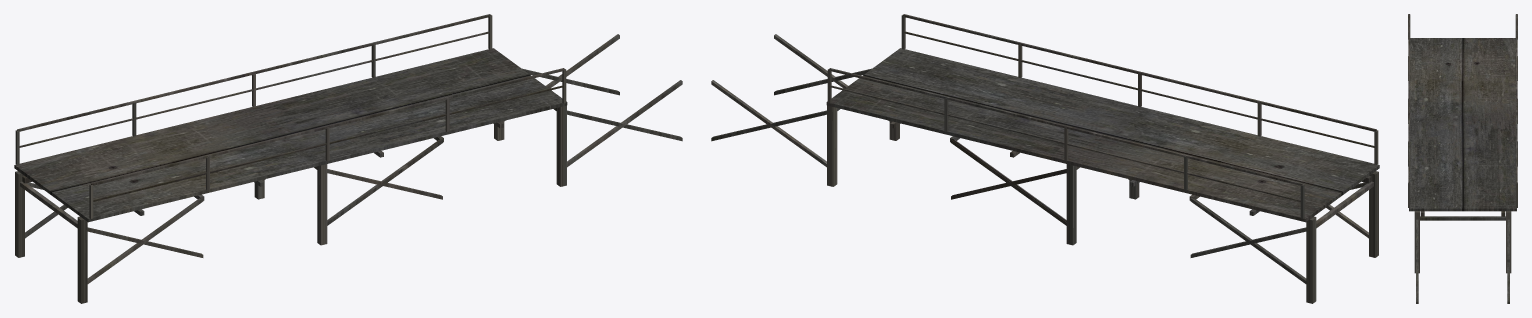
The model's file is wooden_bridge.glb.
The picture shows the model from 3 angles, left to right: view 1: azimuth 30°, elevation 25°; view 2: azimuth 150°, elevation 25°; view 3: azimuth 270°, elevation 25°; orthographic projection. The views are drawn at different scales.
Visible parts, largest first — view 1: WoodenBridge; view 2: WoodenBridge; view 3: WoodenBridge.
Part boxes in pixels (box(x1,y1,x2,y2)): WoodenBridge: box(14, 14, 682, 303); WoodenBridge: box(711, 14, 1379, 303); WoodenBridge: box(1408, 14, 1517, 303).
Size of the model in its own units: 18.85 by 3.63 by 4.08.
Materials: 1 (1 with a texture image).
